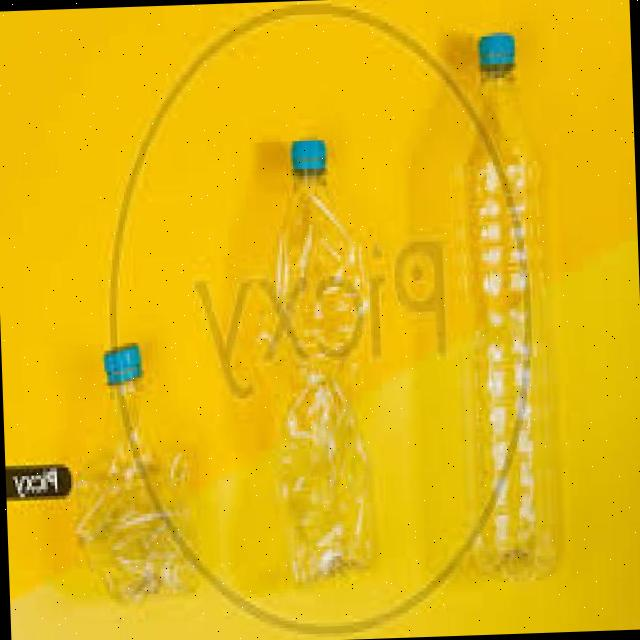bottle: (437, 20, 572, 597), (248, 130, 392, 599), (62, 323, 212, 605)
cap: (89, 336, 154, 393), (467, 26, 522, 84), (280, 134, 330, 184)
